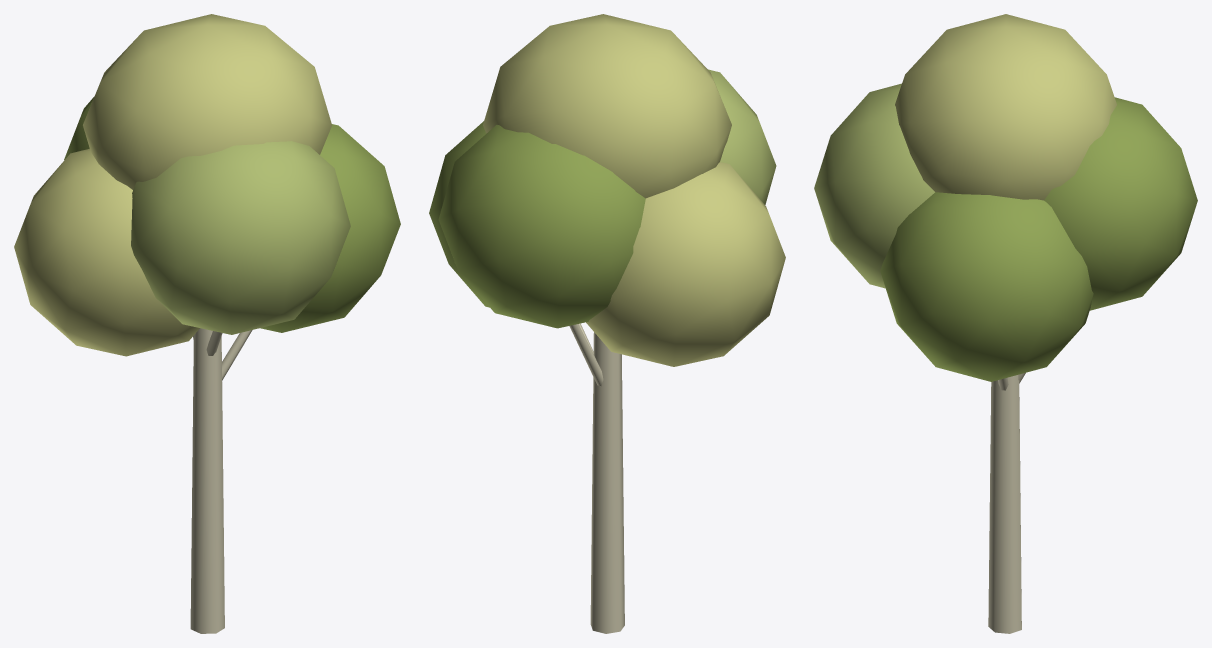
The model's file is tree-birch.glb.
The picture shows the model from 3 angles, left to right: view 1: azimuth 30°, elevation 25°; view 2: azimuth 150°, elevation 25°; view 3: azimuth 270°, elevation 25°; orthographic projection.
Parts seen in each view (by area): view 1: crown-7, crown-5, crown-8, crown-6, root-stem, crown-9; view 2: crown-9, crown-5, crown-8, root-stem, crown-7, crown-6, stem-4; view 3: crown-5, crown-6, crown-9, crown-7, root-stem.
Part boxes in pixels (x1,y1,x2,y2): crown-7: (131, 141, 350, 334); crown-5: (83, 14, 332, 189); crown-8: (14, 148, 199, 356); crown-6: (260, 124, 400, 332); root-stem: (190, 328, 224, 633); crown-9: (64, 97, 93, 159); crown-9: (438, 125, 645, 328); crown-5: (483, 14, 731, 198); crown-8: (586, 162, 785, 366); root-stem: (590, 332, 624, 633); crown-7: (708, 69, 776, 204); crown-6: (429, 121, 489, 307); stem-4: (569, 324, 603, 386); crown-5: (895, 14, 1116, 200); crown-6: (880, 192, 1093, 381); crown-9: (1044, 97, 1197, 310); crown-7: (814, 83, 934, 288); root-stem: (988, 375, 1021, 633).
Bounding box in the file's own units: 5.17 × 8.64 × 5.02.
